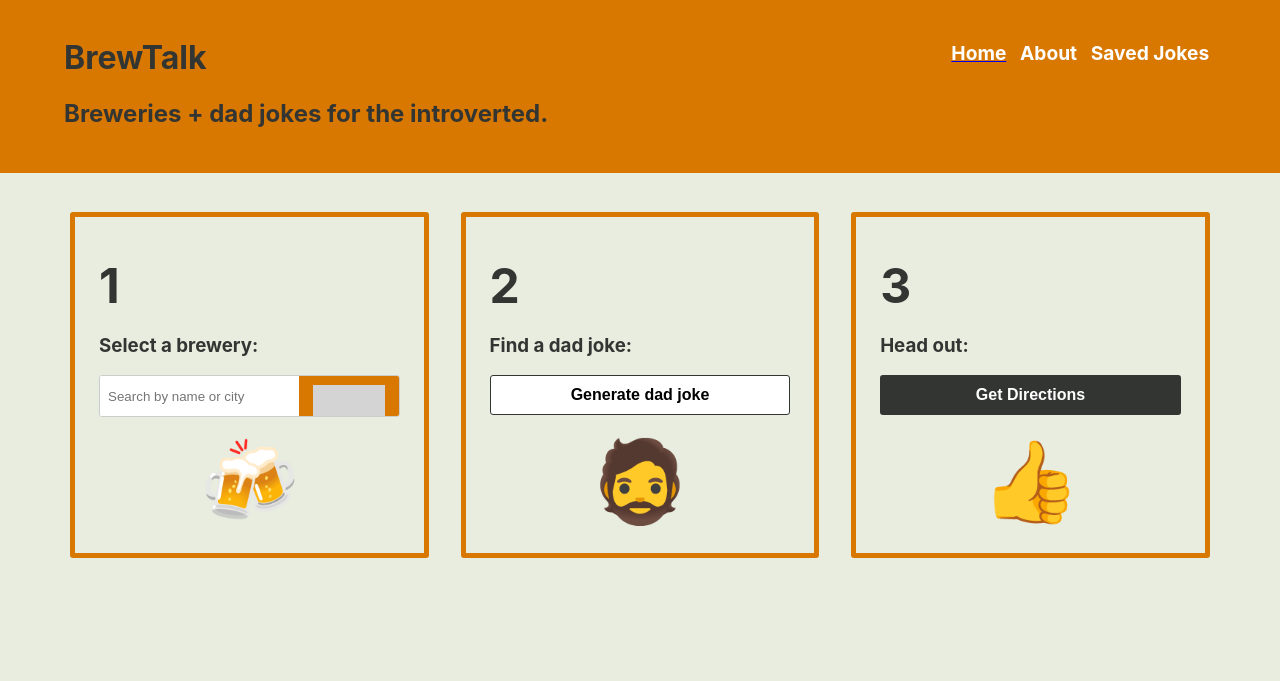
Test case: Homepage: Step 3 › Should display a message if a brewery has been selected and a joke has been saved
Type "Bend" into the search field with placeholder "Search by name or city" at (200, 396), box [100, 376, 299, 416]
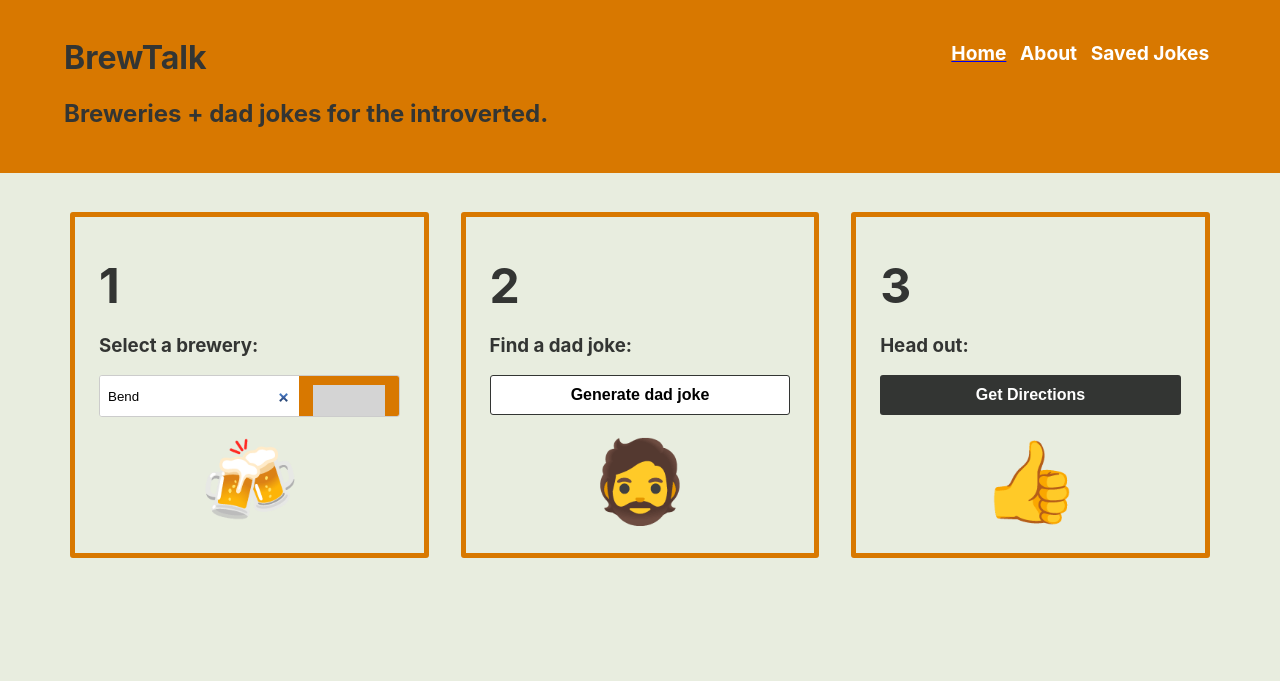
Press Enter in the search field, box [100, 376, 299, 416]
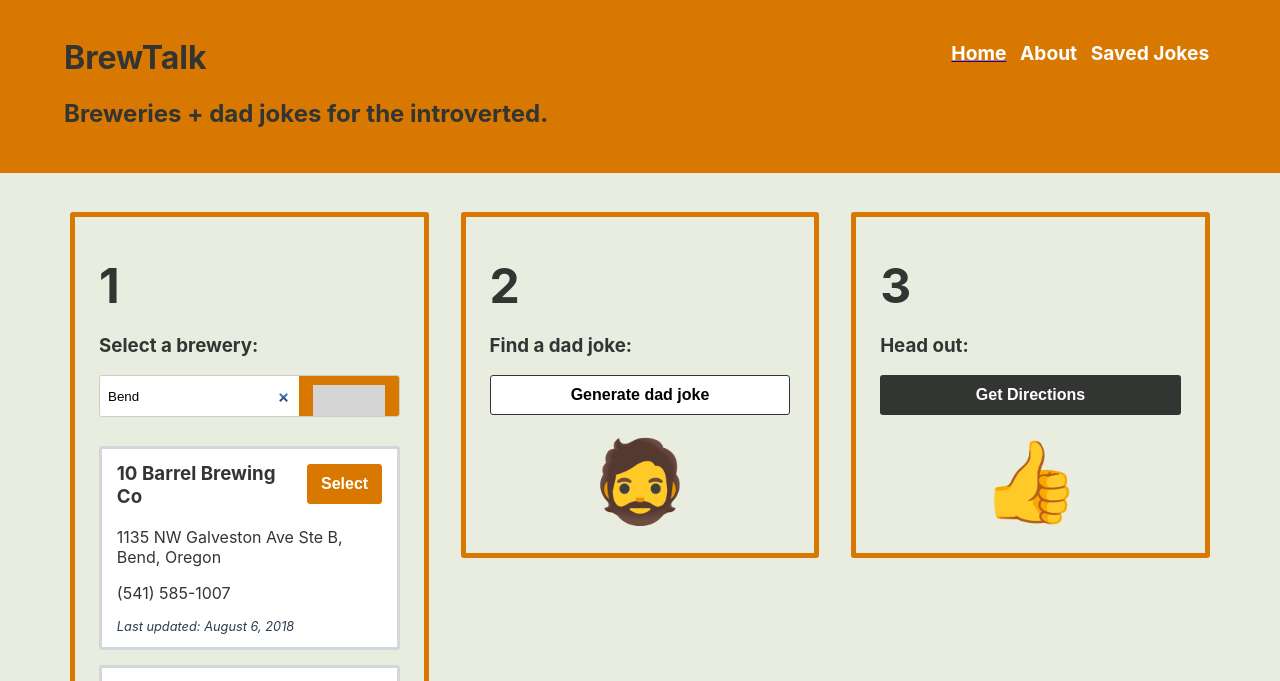
Click the 1st button "Select" at (345, 484), box [307, 464, 382, 504]
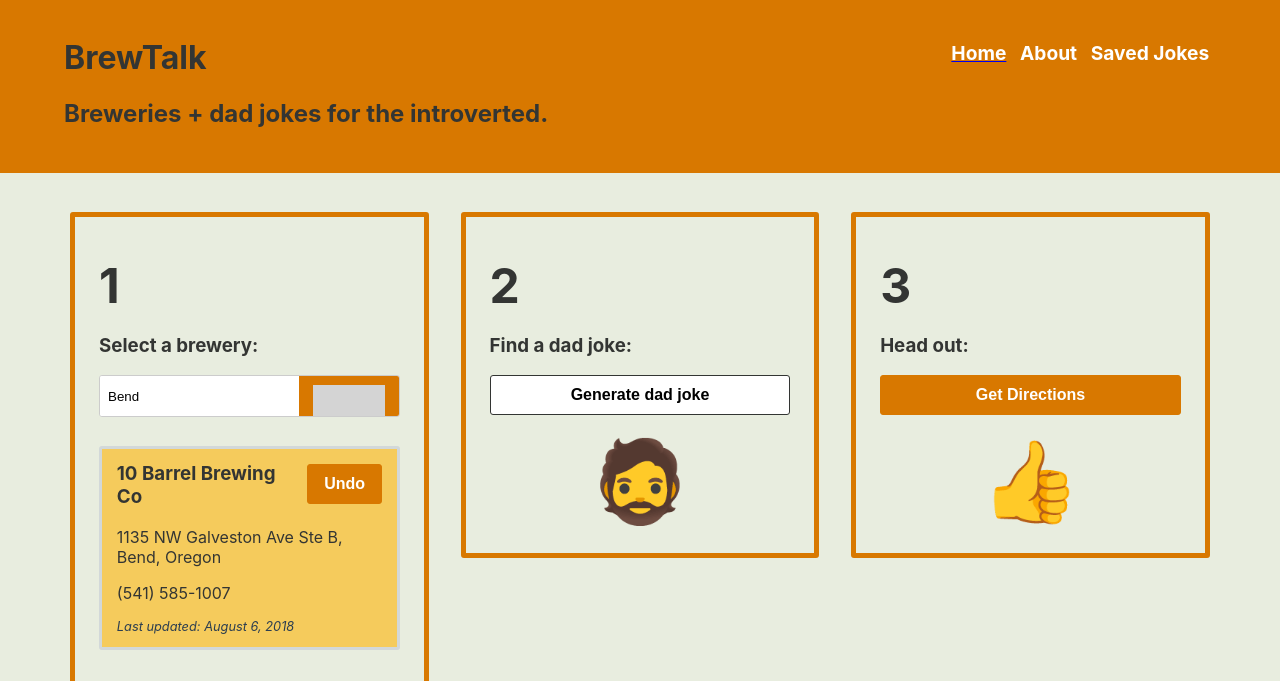
Click the button named "getJoke" at (641, 395), box [490, 375, 791, 415]
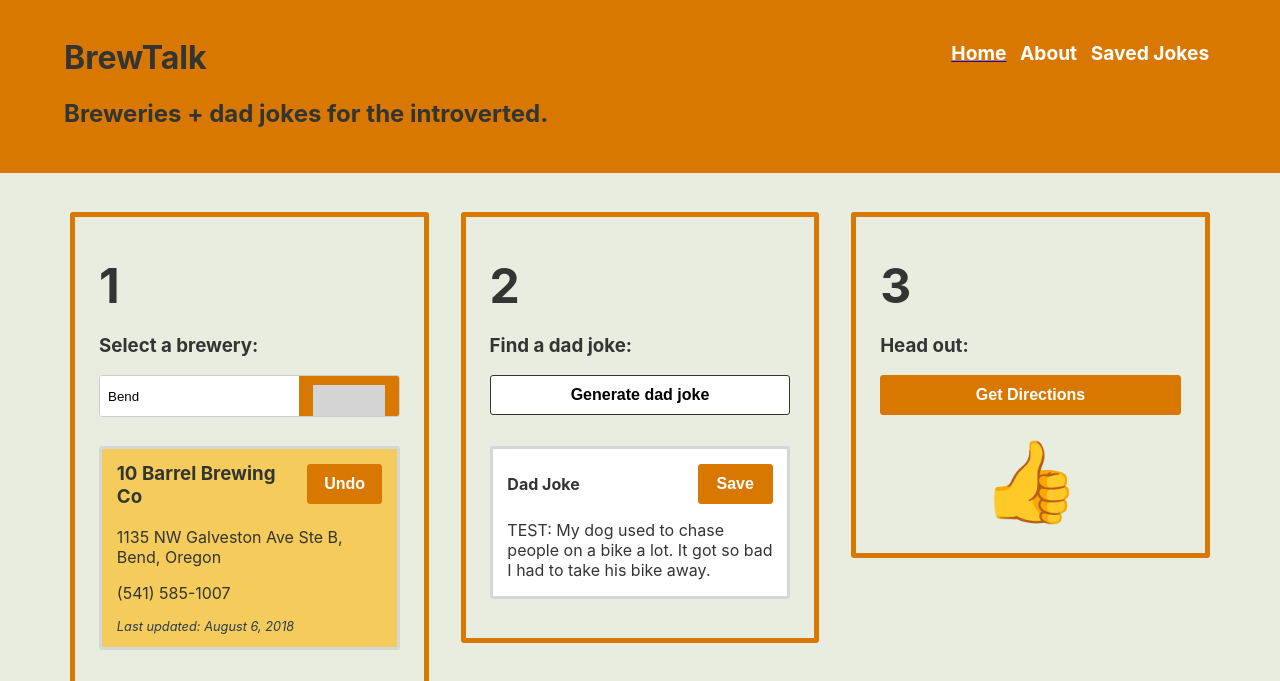
Click the button named "saveJoke" at (736, 484), box [698, 464, 773, 504]
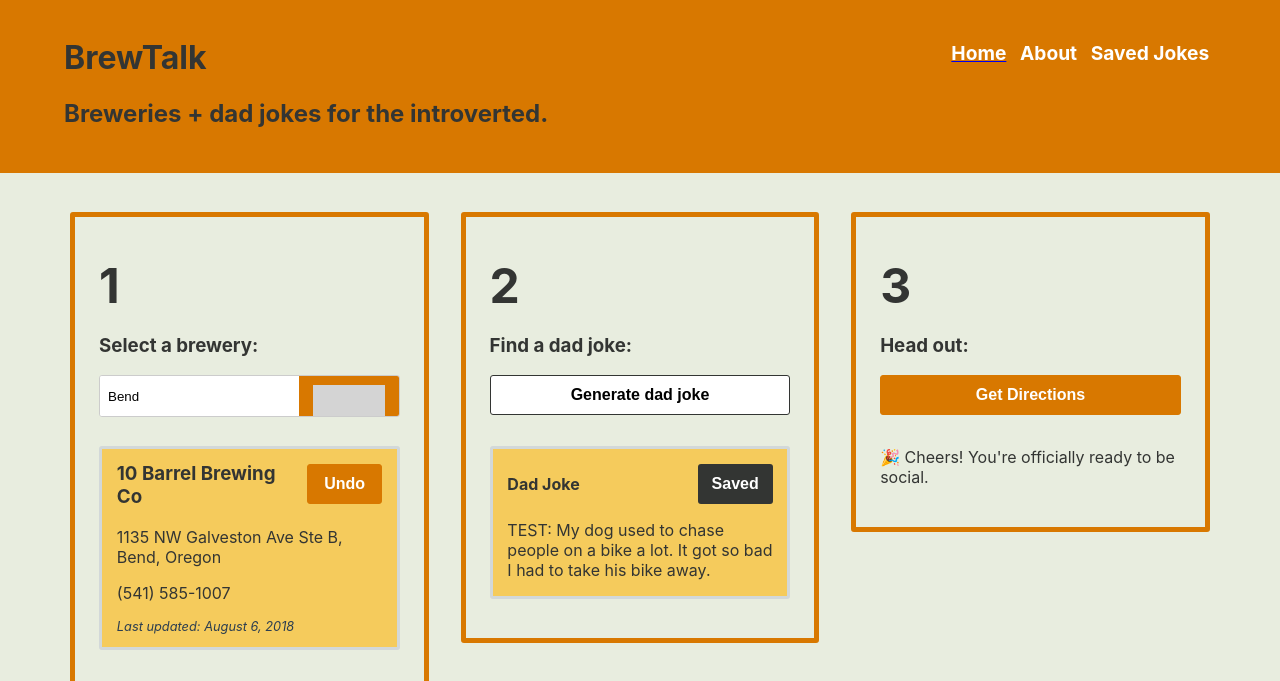
Check: the text "🎉 Cheers! You're officially ready to be social." is shown, box [880, 447, 1181, 487]
